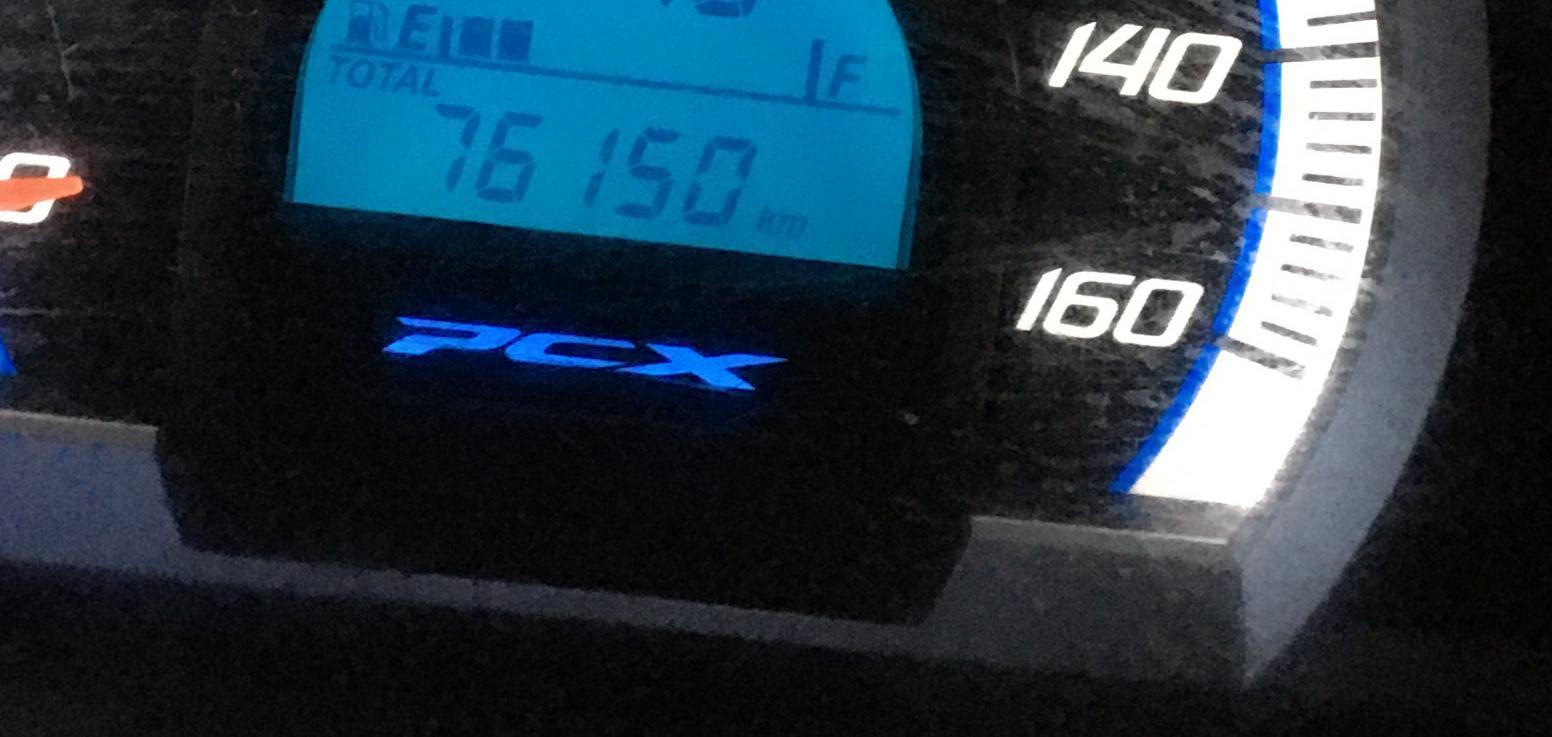0: (687, 134, 749, 227)
1: (579, 120, 616, 224)
5: (623, 121, 676, 222)
6: (479, 104, 545, 205)
7: (428, 97, 477, 193)
X: (827, 45, 868, 101), (400, 2, 438, 52), (776, 211, 811, 238), (348, 55, 374, 91), (421, 64, 448, 97), (753, 203, 778, 238), (377, 56, 400, 94), (396, 61, 420, 95), (327, 50, 350, 85)
odometer: (259, 0, 949, 284)
